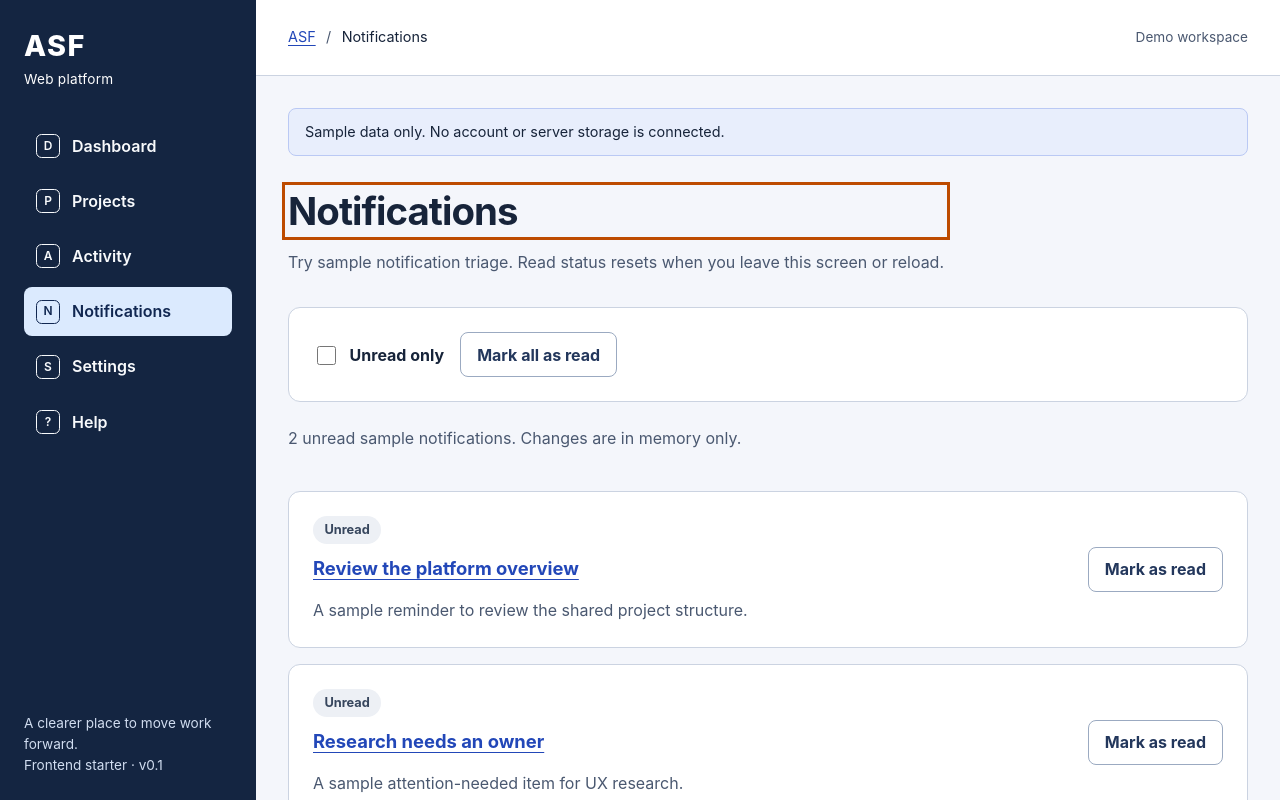
Test case: updates demo unread counts and shows a caught-up state
Click the checkbox labelled "Unread only": [327, 355] box [317,346,336,365]
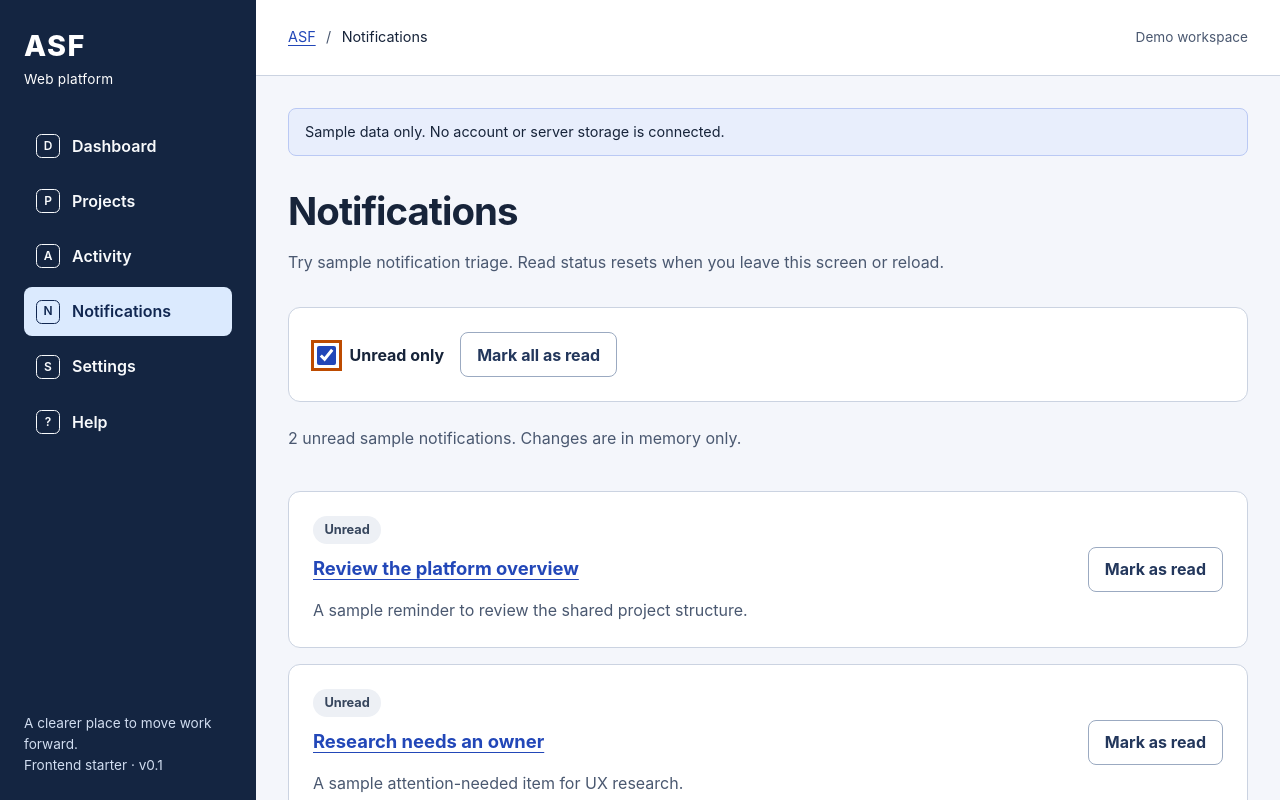
Click the button "Mark all as read": [539, 355] box [460,332,617,377]
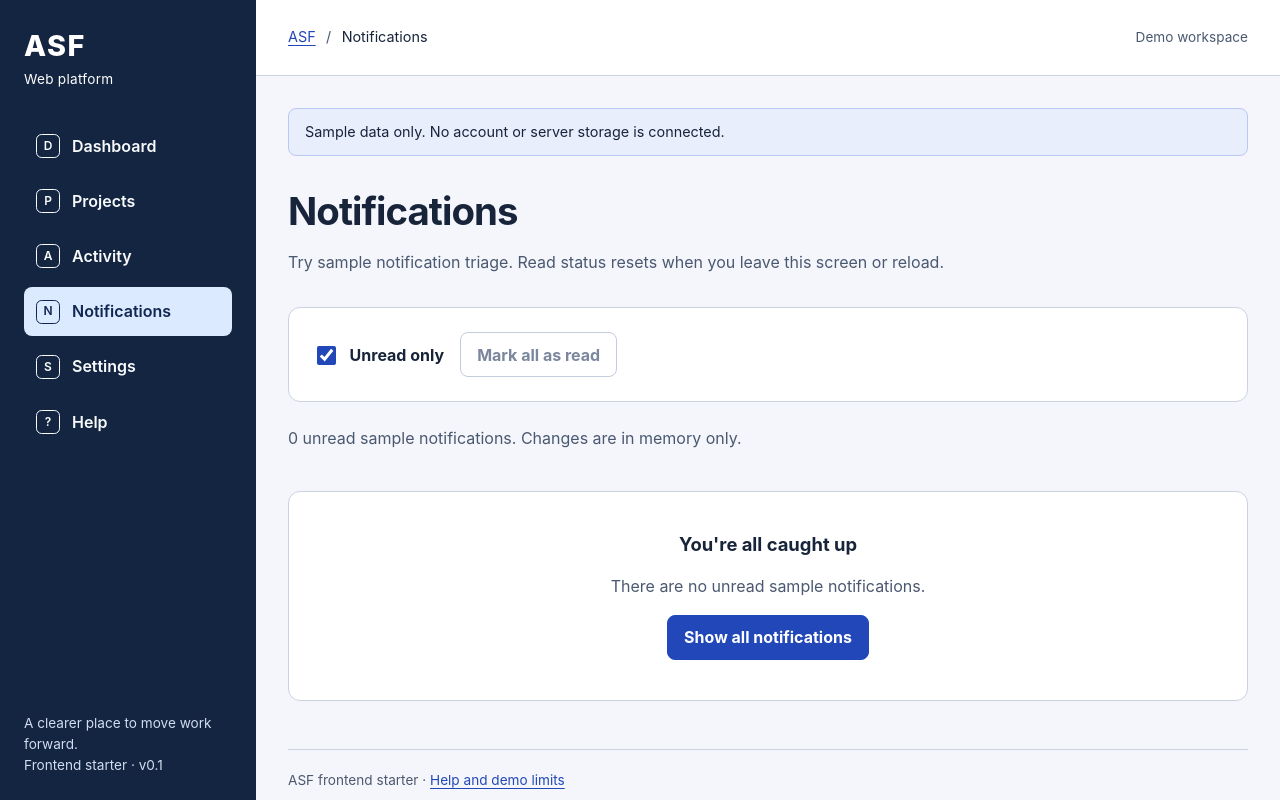
Check: the message shows "0 unread sample notifications", box [288,428,742,448]
Check: the heading "You're all caught up" is shown, box [679,533,857,555]
Check: the button "Mark all as read" is disabled, box [460,332,617,377]
